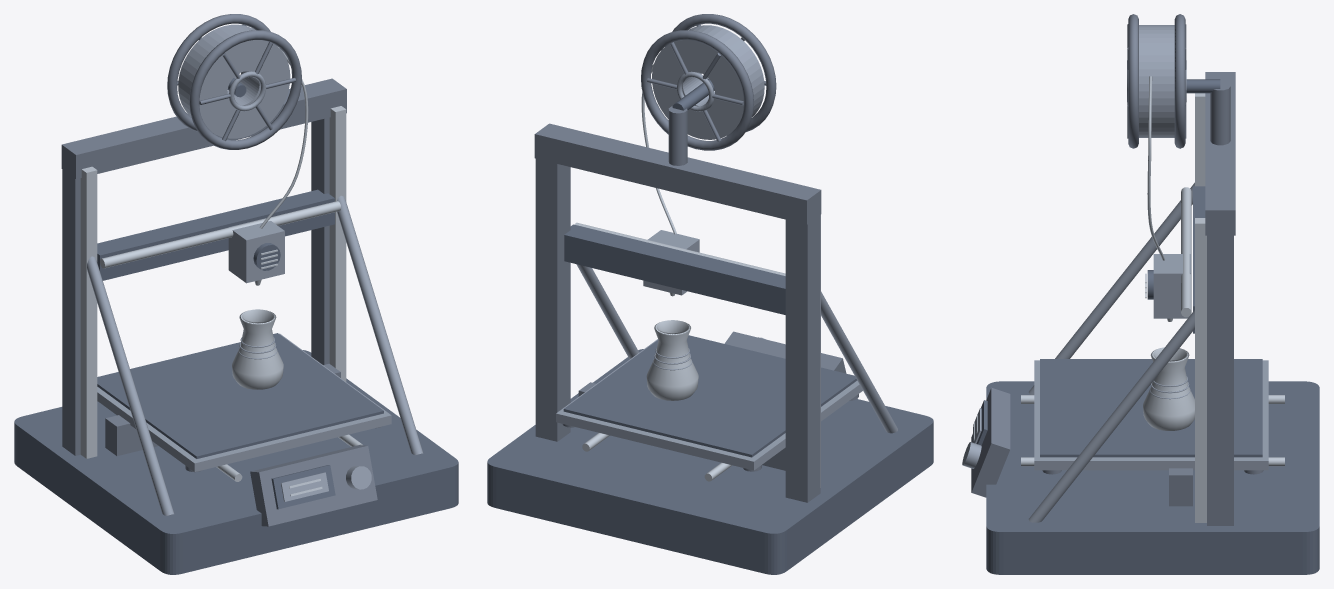
File: 3D打印机-lite.glb
The picture shows the model from 3 angles, left to right: view 1: azimuth 30°, elevation 25°; view 2: azimuth 150°, elevation 25°; view 3: azimuth 270°, elevation 25°; orthographic projection. The views are drawn at different scales.
Parts seen in each view (by area): view 1: 3d-printer-dark, 3d-printer-frame, 3d-printer-light, 3d-printer-accent, 3d-printer-soft; view 2: 3d-printer-dark, 3d-printer-frame, 3d-printer-accent, 3d-printer-soft, 3d-printer-light; view 3: 3d-printer-dark, 3d-printer-frame, 3d-printer-accent, 3d-printer-light, 3d-printer-soft.
Boxes of the visible parts, <box> form: 3d-printer-dark: <box>14,78,458,574</box>; 3d-printer-frame: <box>61,14,382,526</box>; 3d-printer-light: <box>80,48,362,496</box>; 3d-printer-accent: <box>87,71,423,515</box>; 3d-printer-soft: <box>178,24,328,501</box>; 3d-printer-dark: <box>487,79,933,574</box>; 3d-printer-frame: <box>534,14,858,502</box>; 3d-printer-accent: <box>556,71,897,470</box>; 3d-printer-soft: <box>652,25,764,139</box>; 3d-printer-light: <box>575,64,820,487</box>; 3d-printer-dark: <box>973,79,1319,574</box>; 3d-printer-frame: <box>971,14,1263,525</box>; 3d-printer-accent: <box>962,60,1268,522</box>; 3d-printer-light: <box>973,76,1284,522</box>; 3d-printer-soft: <box>973,25,1174,443</box>.
Bounding box in the file's own units: 0.46 × 0.694 × 0.4609.
